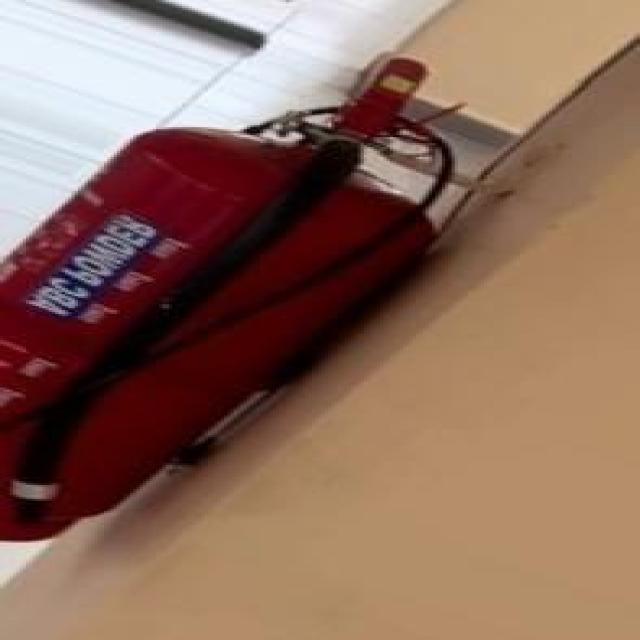fire_extinguisher: (0, 47, 452, 546)
